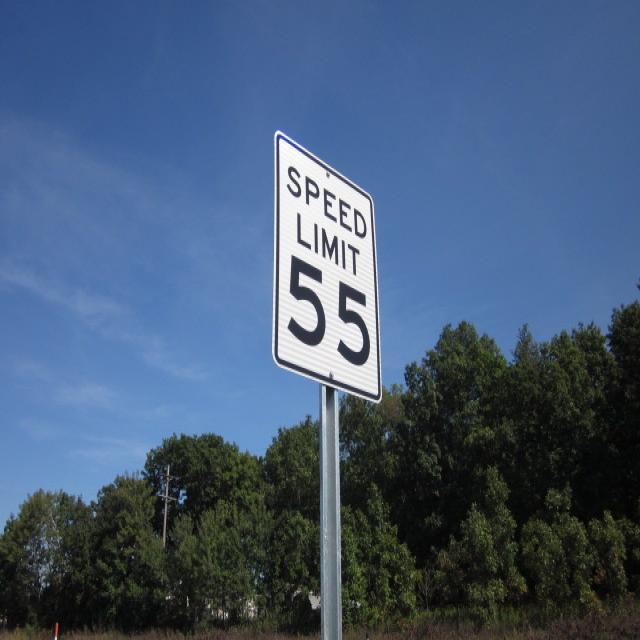regulatory: (272, 126, 384, 406)
